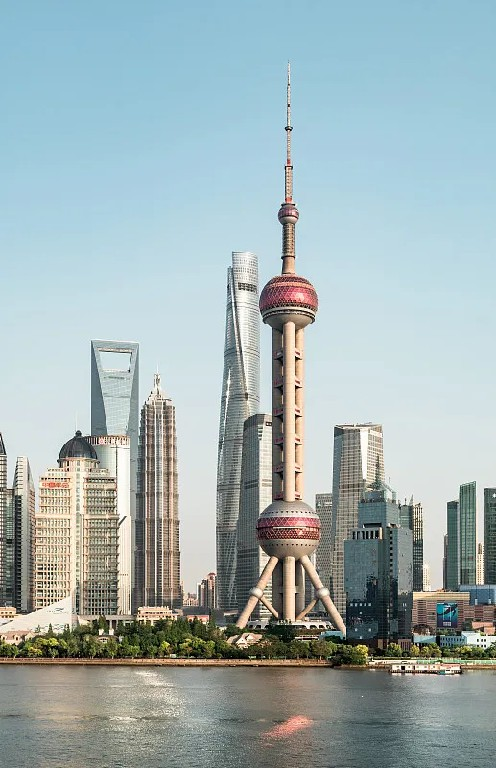Oriental: (234, 58, 344, 634)
